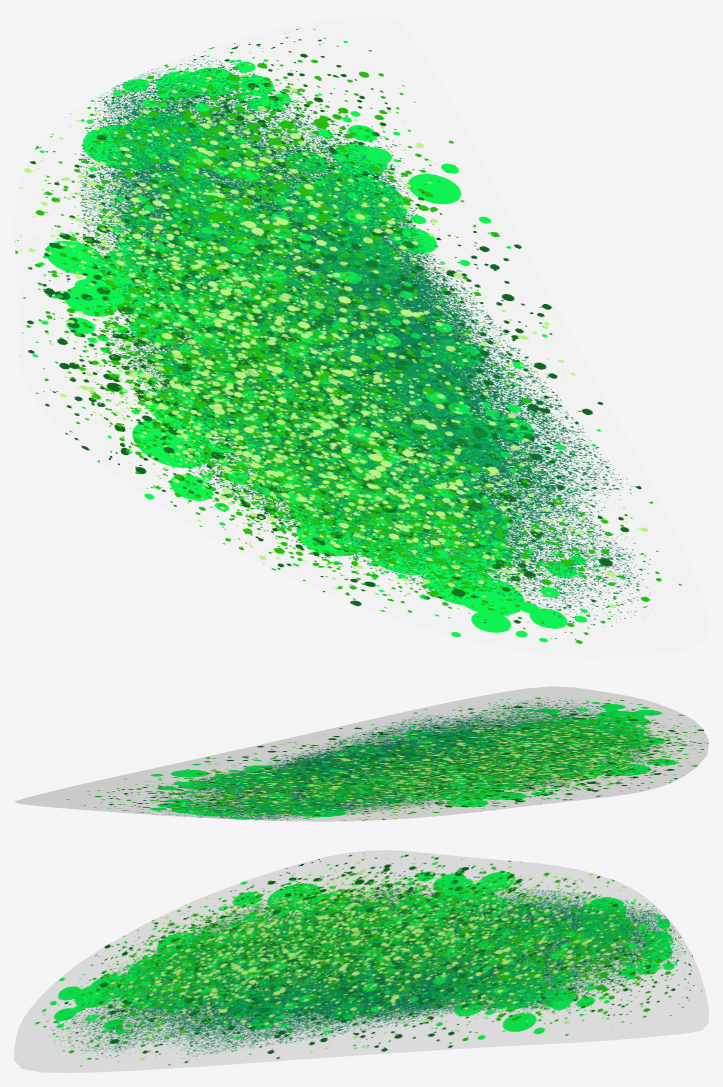
Rendered from Duckweed1.fbx.
3 renders of one model, top to bottom at view 1: azimuth 30°, elevation 25°; view 2: azimuth 150°, elevation 25°; view 3: azimuth 270°, elevation 25°, orthographic. The views are drawn at different scales.
Parts seen in each view (by area): view 1: Plane.004; view 2: Plane.004; view 3: Plane.004.
Part boxes in pixels (<box>): Plane.004: <box>14,14,708,657</box>; Plane.004: <box>14,686,708,821</box>; Plane.004: <box>14,850,708,1072</box>.
Bounding box in the file's own units: 0.8253 × 0.2502 × 1.23.
